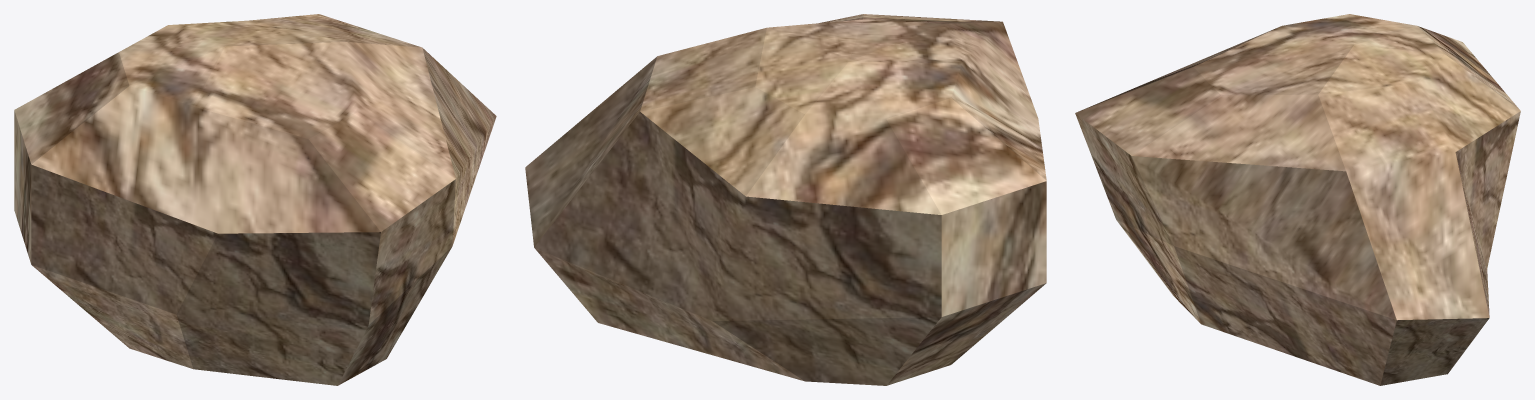
File: Pedra2.glb
3 views of the same model, side by side, from view 1: azimuth 30°, elevation 25°; view 2: azimuth 150°, elevation 25°; view 3: azimuth 270°, elevation 25° (orthographic). The views are drawn at different scales.
Visible parts, largest first — view 1: Sphere; view 2: Sphere; view 3: Sphere.
Part boxes in pixels (left/top/right/bottom): Sphere: left=14, top=14, right=496, bottom=385; Sphere: left=525, top=14, right=1046, bottom=385; Sphere: left=1075, top=14, right=1520, bottom=385.
Bounding box in the file's own units: 3.15 × 1.89 × 2.74.
1 material, 1 textured.
